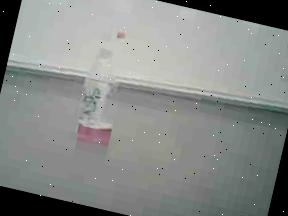hazard: (65, 18, 142, 156)
